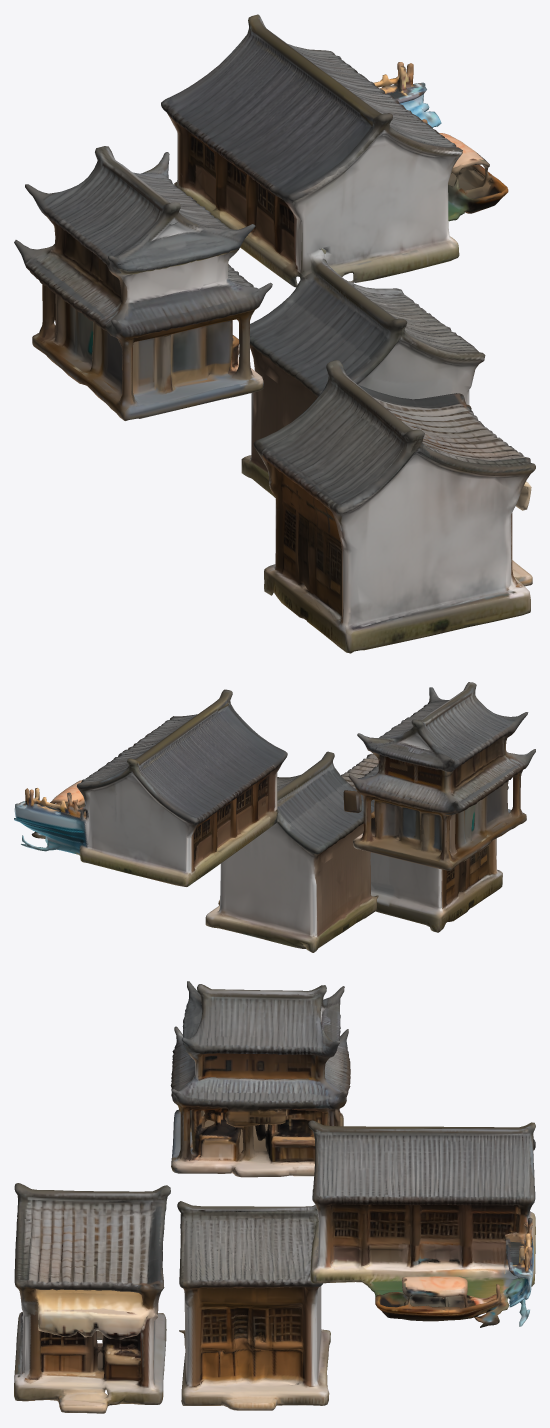
3 views of the same model, one above another, from view 1: azimuth 30°, elevation 25°; view 2: azimuth 150°, elevation 25°; view 3: azimuth 270°, elevation 25° (orthographic). The views are drawn at different scales.
Visible parts, largest first — view 1: material.001; view 2: material.001; view 3: material.001.
Part boxes in pixels (x1=…): material.001: x1=14, y1=14, x2=535, y2=653; material.001: x1=14, y1=682, x2=535, y2=952; material.001: x1=14, y1=981, x2=535, y2=1413.
Bounding box in the file's own units: 0.8467 × 0.5922 × 0.8749.
1 material, 1 textured.
